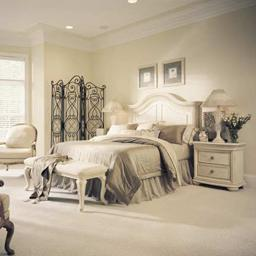Cama: (49, 98, 201, 193)
Ventana: (1, 59, 27, 136)
